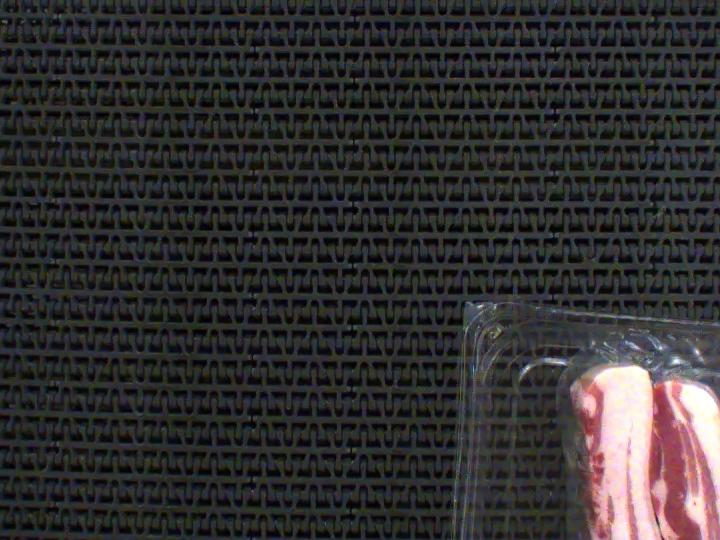unsealed: (542, 328, 720, 540)
